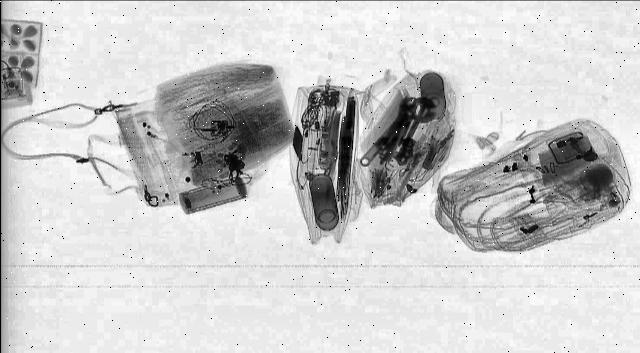Wrench: (352, 96, 418, 168)
